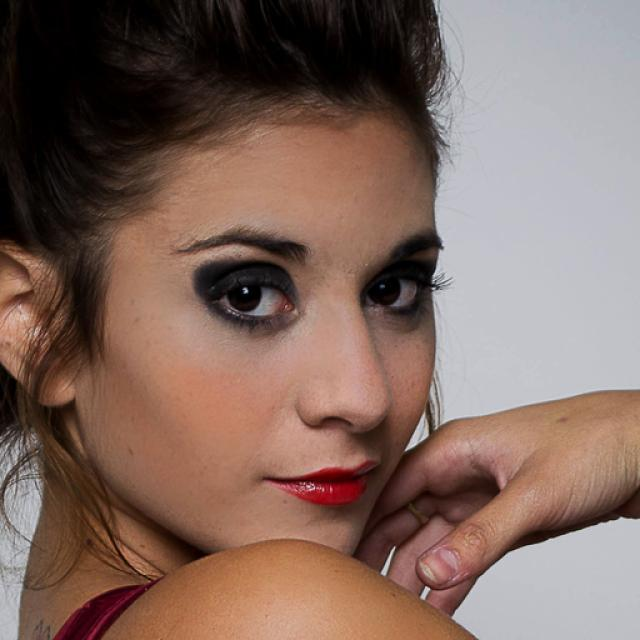neutral: (75, 66, 444, 566)
